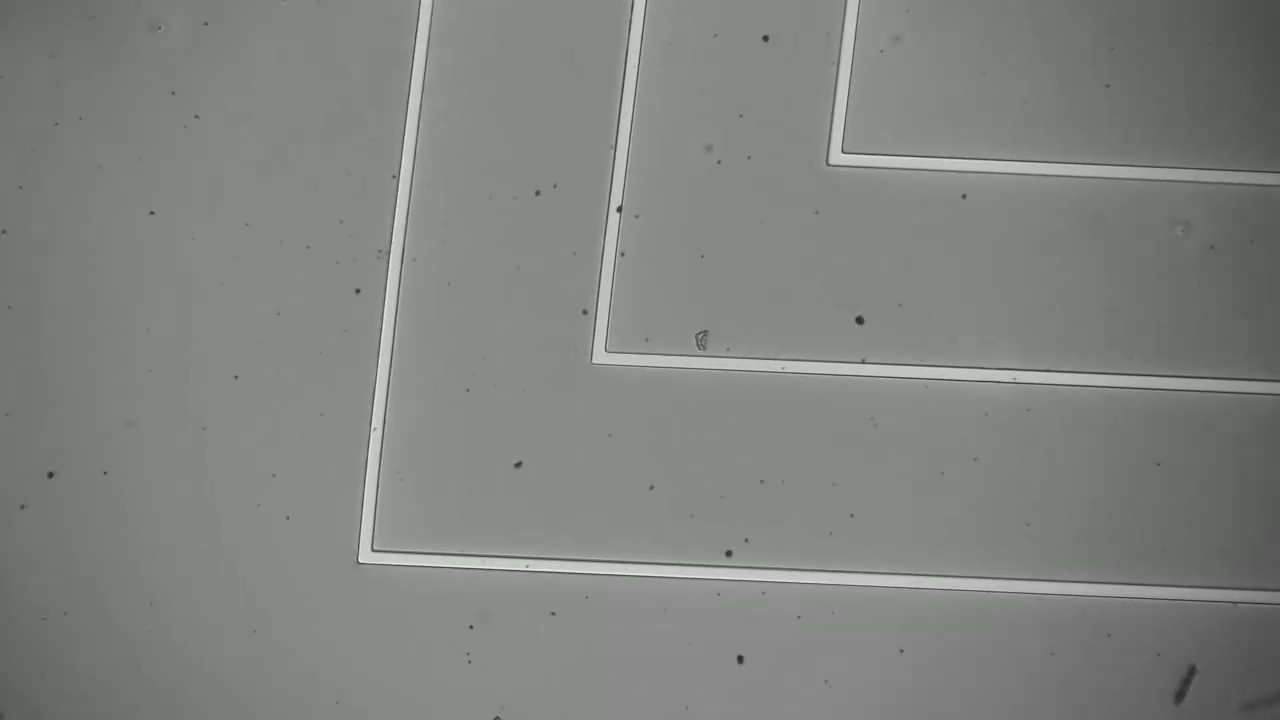stains_enbedded: (600, 199, 631, 225)
